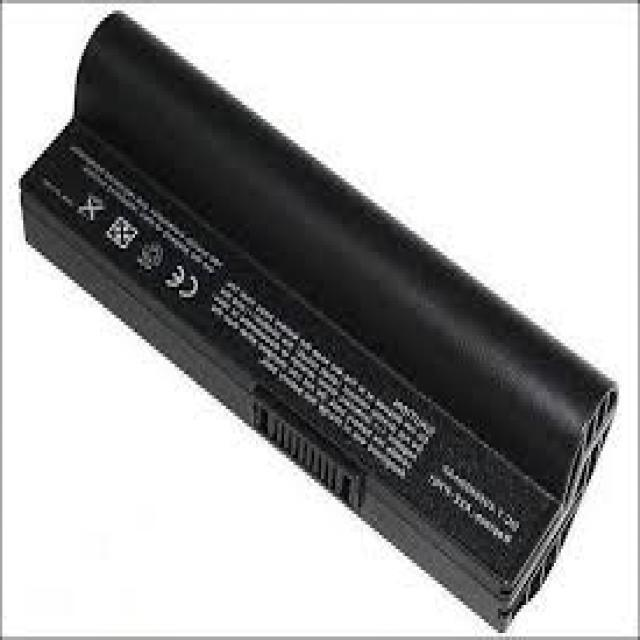battery: (19, 0, 616, 632)
